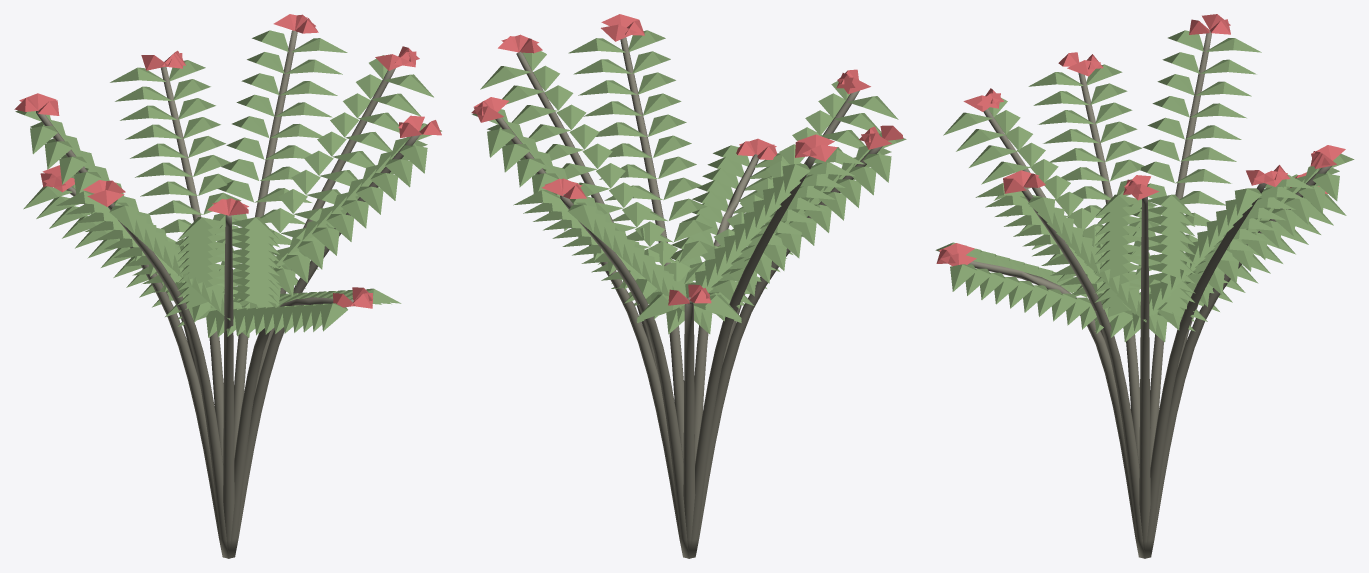
Rendered from grove-specimen-24.glb.
3 views of the same model, side by side, from view 1: azimuth 30°, elevation 25°; view 2: azimuth 150°, elevation 25°; view 3: azimuth 270°, elevation 25° (orthographic). The views are drawn at different scales.
Visible parts, largest first — view 1: grove-specimen-24; view 2: grove-specimen-24; view 3: grove-specimen-24.
Part boxes in pixels (x1,y1,x2,y2): grove-specimen-24: (14, 14, 441, 558); grove-specimen-24: (471, 14, 906, 558); grove-specimen-24: (935, 14, 1354, 558).
Bounding box in the file's own units: 1.59 × 1.92 × 1.58.
